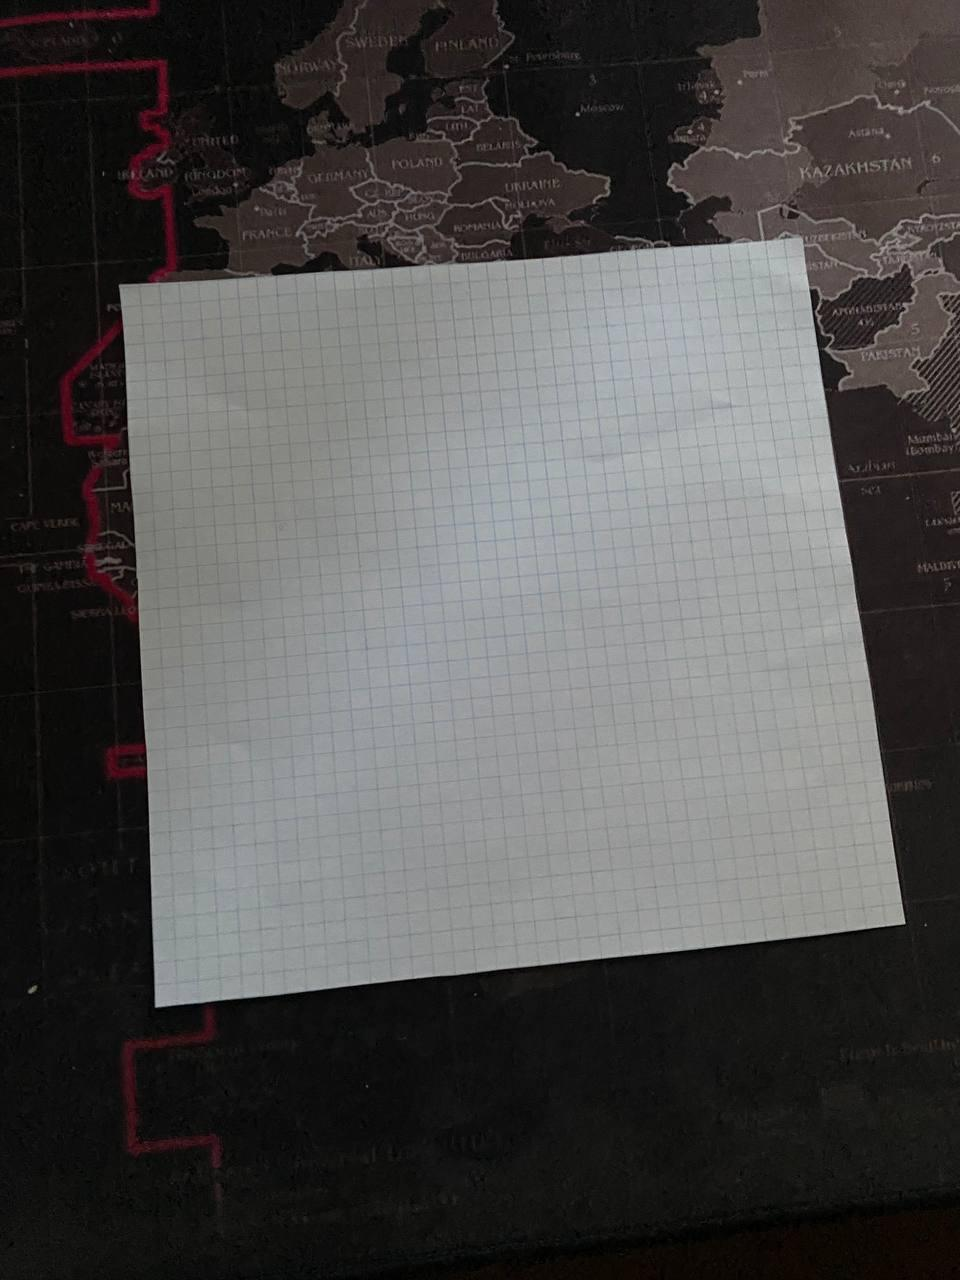grid: (104, 224, 915, 1020)
